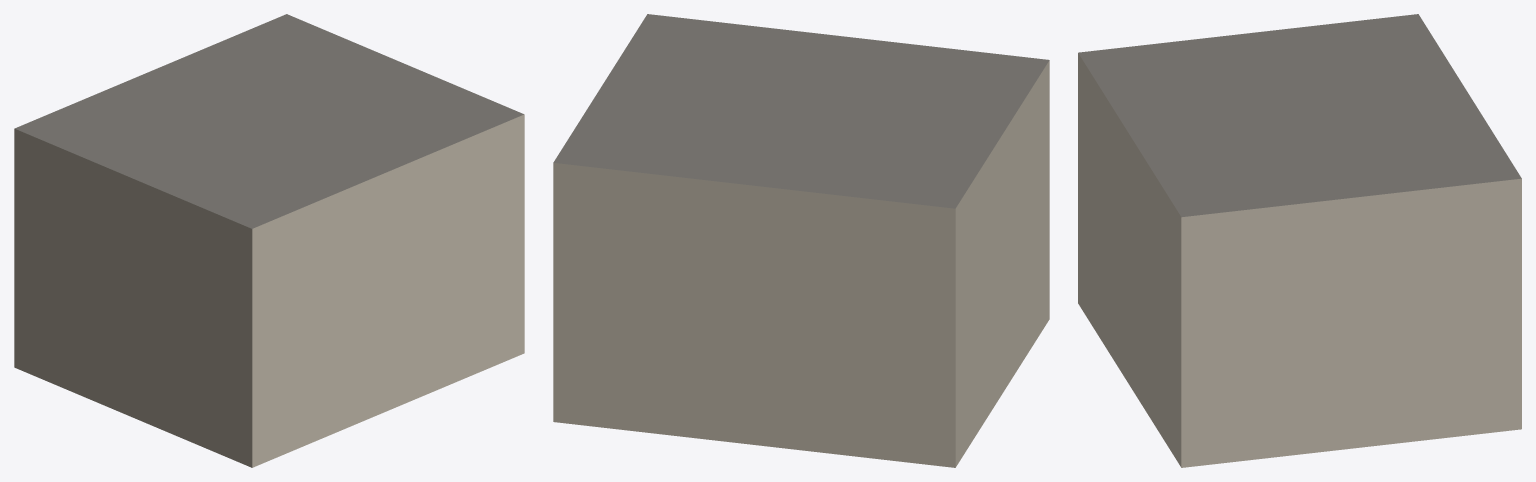
3 views of the same model, side by side, from view 1: azimuth 30°, elevation 25°; view 2: azimuth 150°, elevation 25°; view 3: azimuth 270°, elevation 25° (orthographic). The views are drawn at different scales.
Parts seen in each view (by area): view 1: HP-w378107215; view 2: HP-w378107215; view 3: HP-w378107215.
Boxes of the visible parts, left/top/right/bottom form: HP-w378107215: left=14, top=14, right=524, bottom=467; HP-w378107215: left=553, top=14, right=1049, bottom=467; HP-w378107215: left=1078, top=14, right=1521, bottom=467.
Size of the model in its own units: 31.29 by 18 by 28.88.
